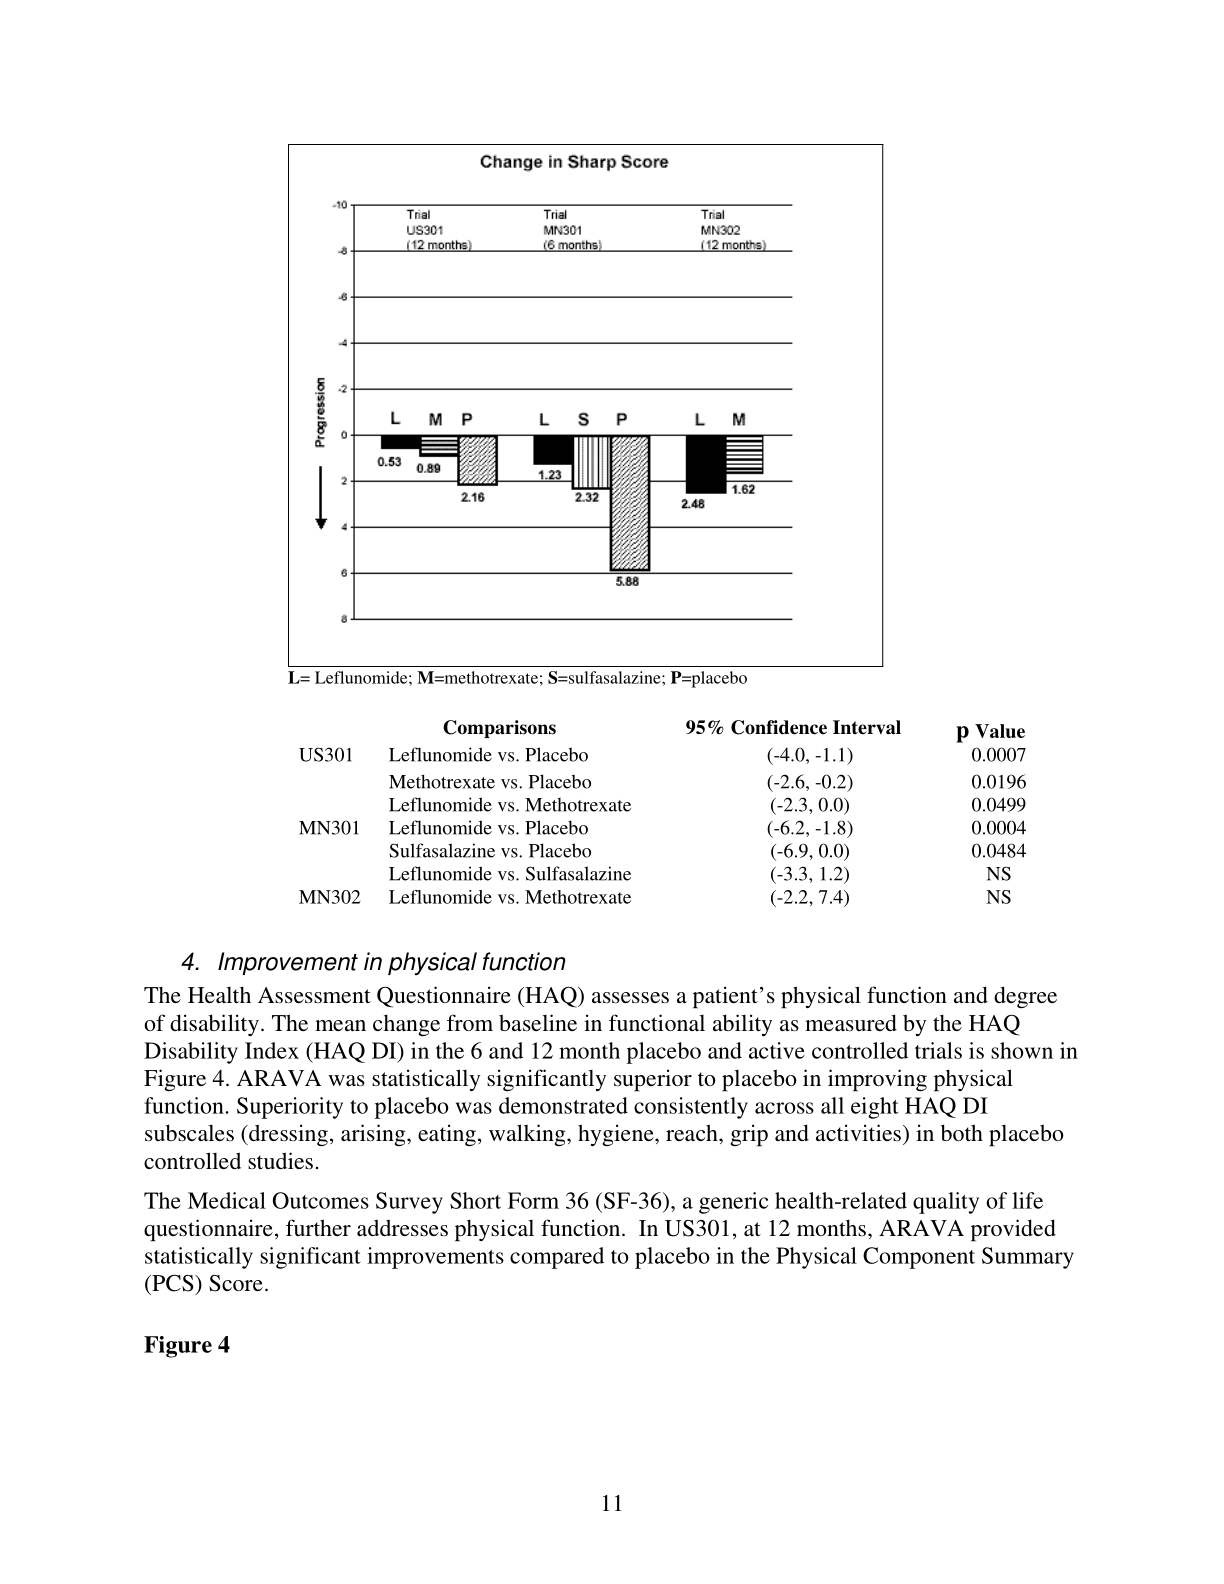nolines: (297, 716, 1030, 908)
